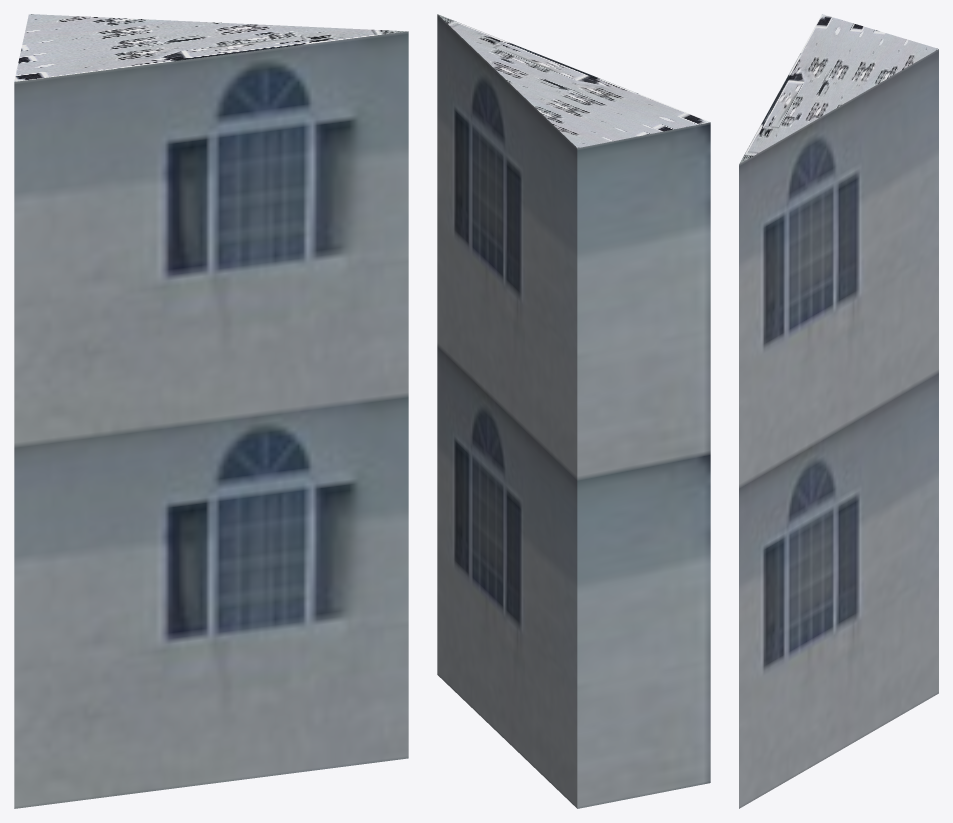
The model's file is ResTex__2068.fbx.
3 views of the same model, side by side, from view 1: azimuth 30°, elevation 25°; view 2: azimuth 150°, elevation 25°; view 3: azimuth 270°, elevation 25° (orthographic). The views are drawn at different scales.
Visible parts, largest first — view 1: CityEngineMaterial_17_m, CityEngineMaterial_8_m; view 2: CityEngineMaterial_17_m, CityEngineMaterial_8_m; view 3: CityEngineMaterial_17_m, CityEngineMaterial_8_m.
Boxes of the visible parts, <box> form: CityEngineMaterial_17_m: <box>14,31,408,808</box>; CityEngineMaterial_8_m: <box>14,14,407,81</box>; CityEngineMaterial_17_m: <box>437,14,710,808</box>; CityEngineMaterial_8_m: <box>437,14,709,148</box>; CityEngineMaterial_17_m: <box>739,49,938,808</box>; CityEngineMaterial_8_m: <box>739,14,938,163</box>.
Size of the model in its own units: 3 by 6 by 1.69.
2 materials, 2 textured.
